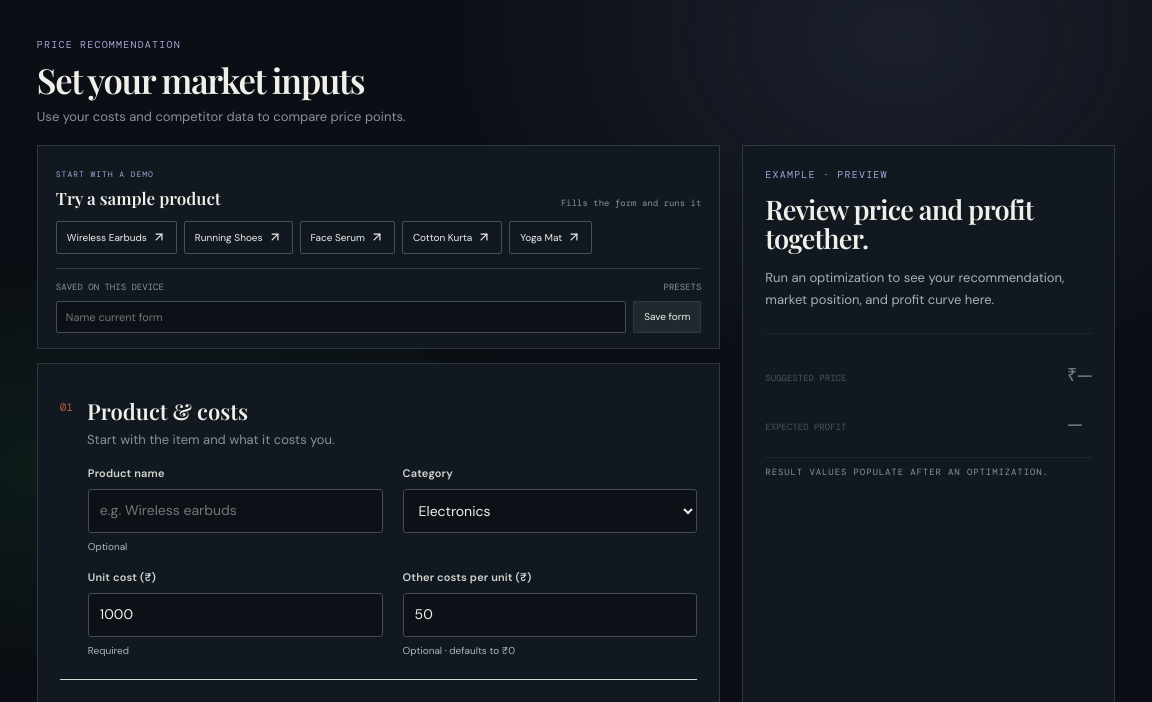
Test: PriceOptimizer › saves, applies, and deletes a preset through the UI
Later steps or results of the test are not shown.
Type "My item" into the field named "Name this preset" at (341, 317), box [56,300,626,333]
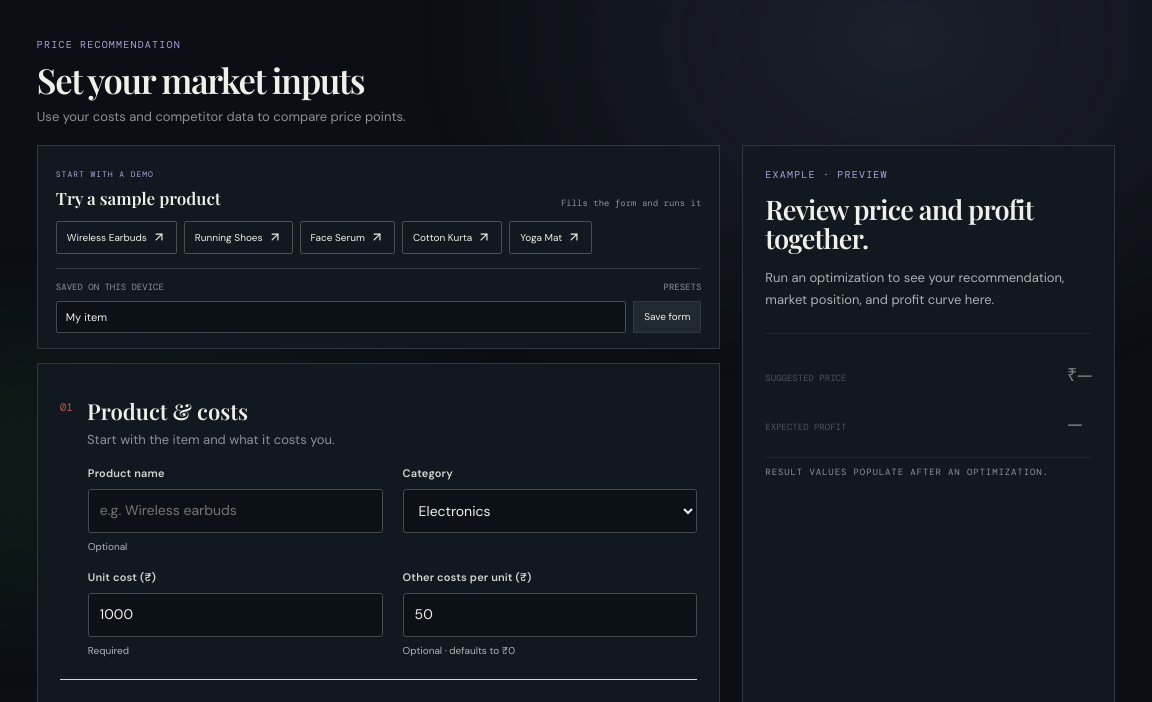
Click the button "Save form" at (667, 317), box [633,300,701,333]
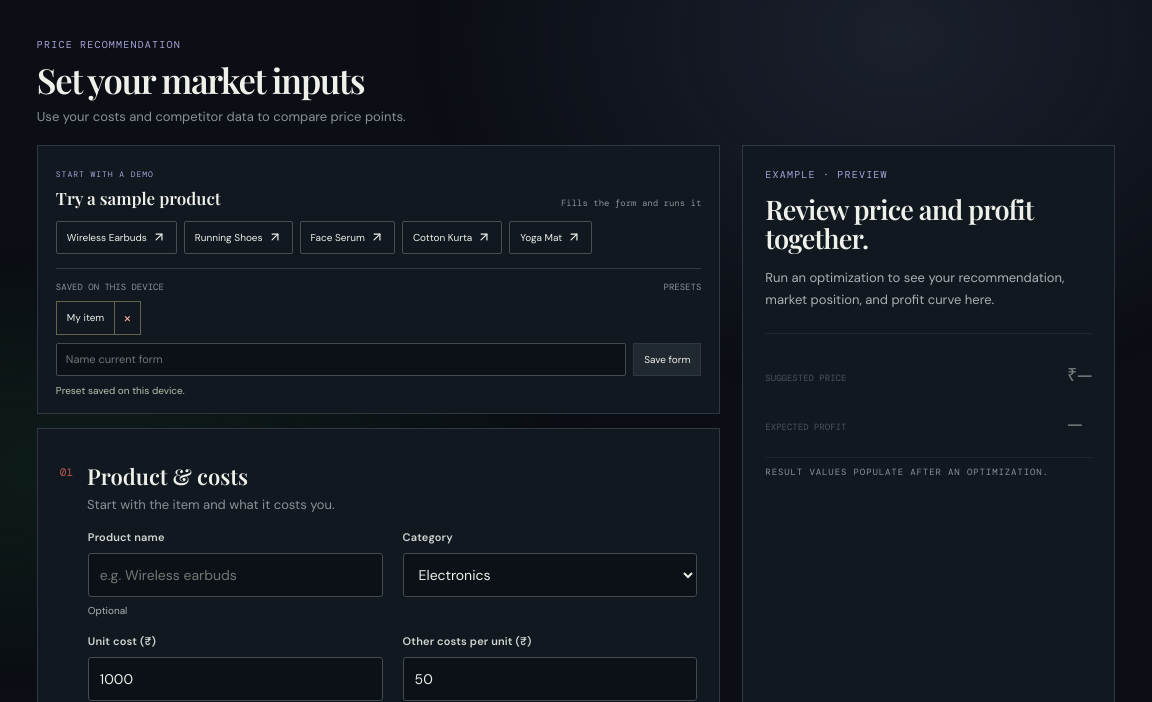
Result: the text "Preset saved on this device." is shown at [56,384,185,396]
Result: the button "My item" is shown
Click the button "My item" at (86, 318), box [57,302,114,334]
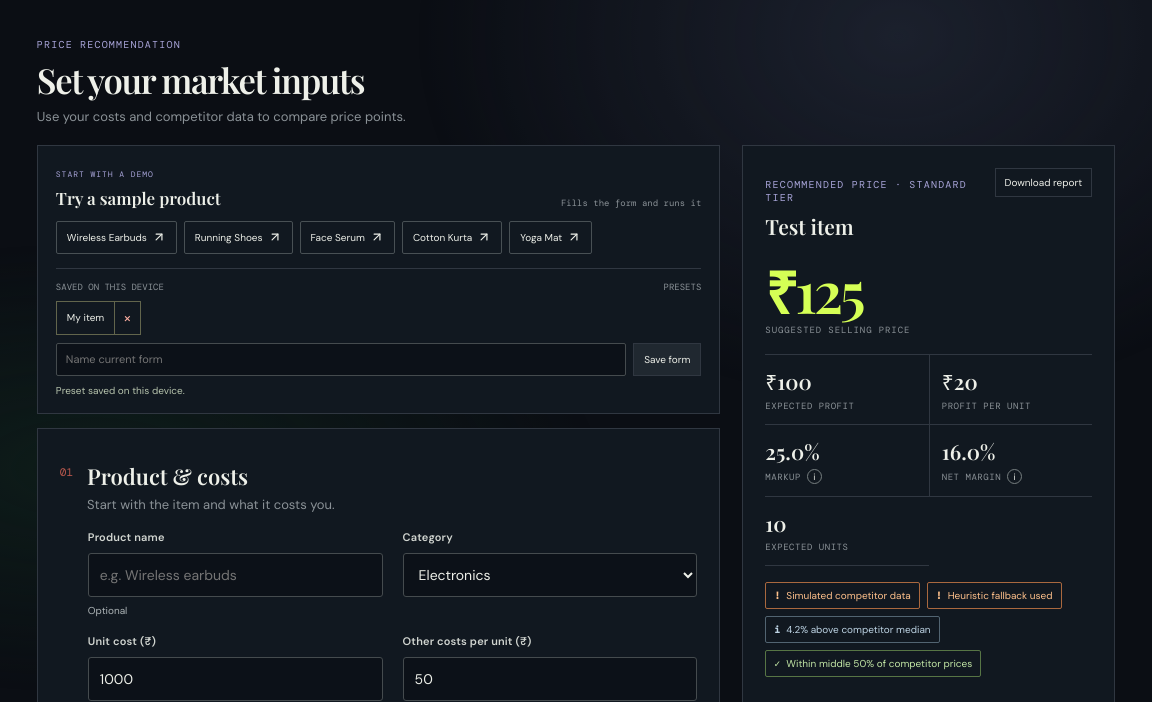
Result: the text "₹125" is shown at [765,252,862,328]
